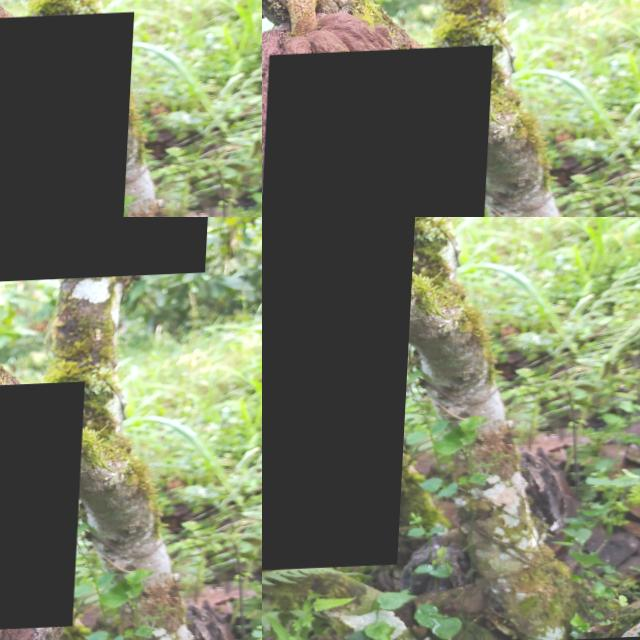Fitoftora: (262, 217, 417, 576), (264, 48, 495, 217), (0, 15, 136, 217), (0, 385, 87, 635)
Sana: (0, 217, 211, 284)
